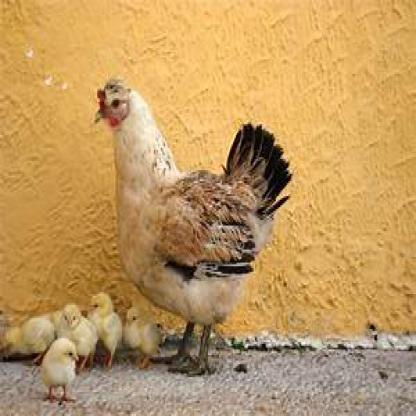chicken: (91, 87, 294, 372)
